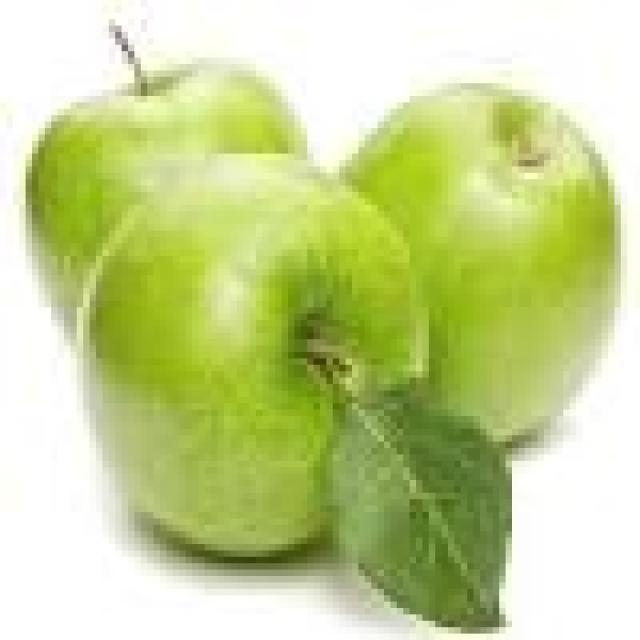apple: (76, 164, 427, 554), (340, 84, 618, 438), (26, 65, 306, 355)
